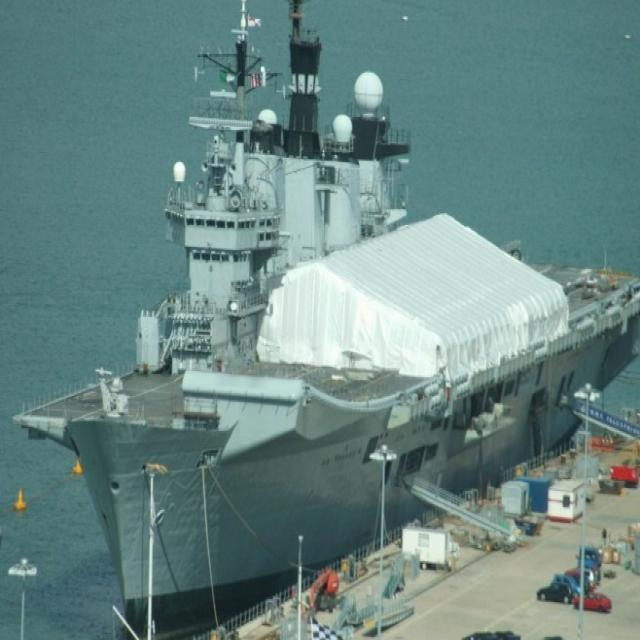Portanaves: (8, 1, 640, 640)
